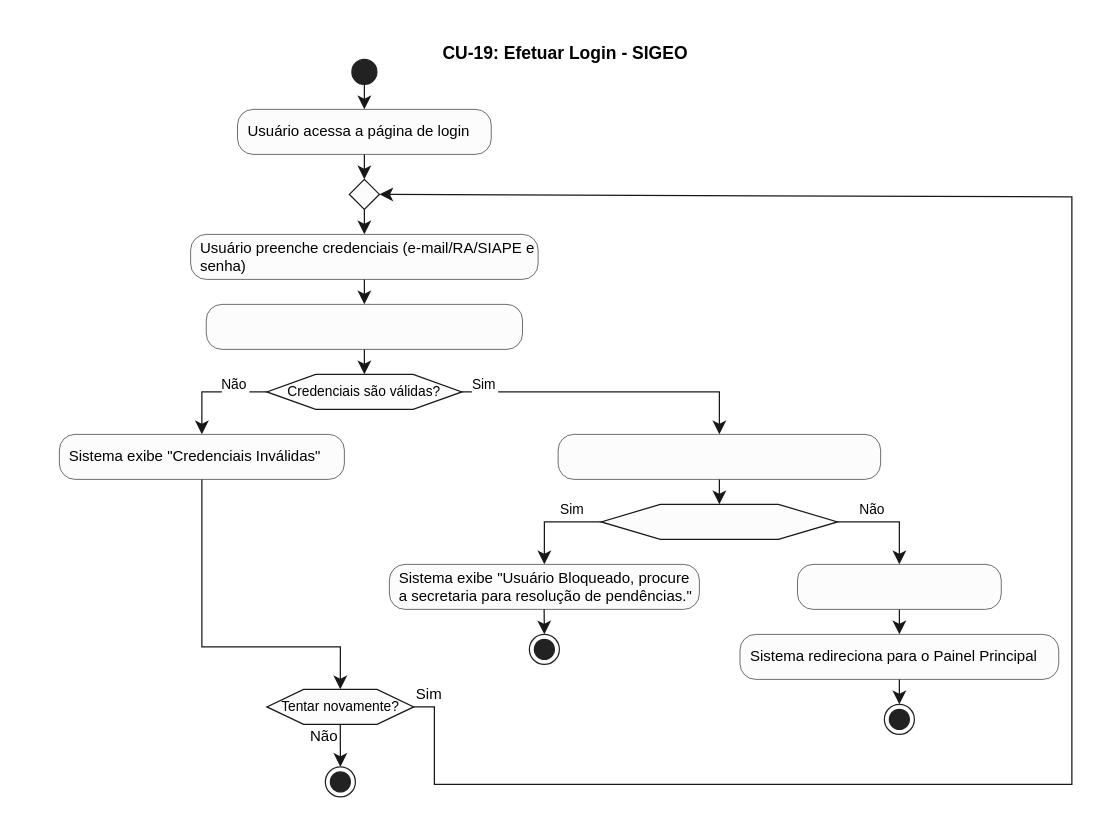
The diagram is 1106 pixels wide and 819 high, and some of its shapes have lost their labels. The shapes that lost their labels are listed below. From the top down, each one's centre as x and y in pixels, then its label:
At (363,326): "Sistema busca usuário no banco de dados".
At (718,456): "Sistema verifica se usuário está bloqueado".
At (719,521): "Usuário possui bloqueio ativo?".
At (899,586): "Sistema cria sessão ativa".
